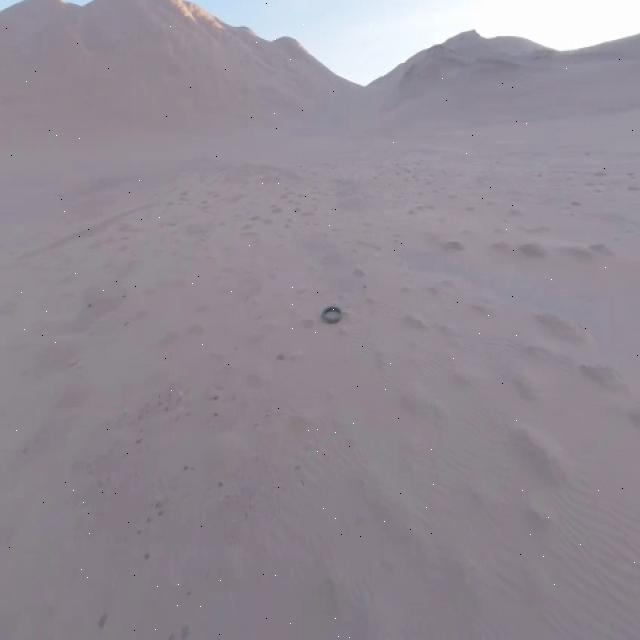Tire: (322, 305, 343, 323)
